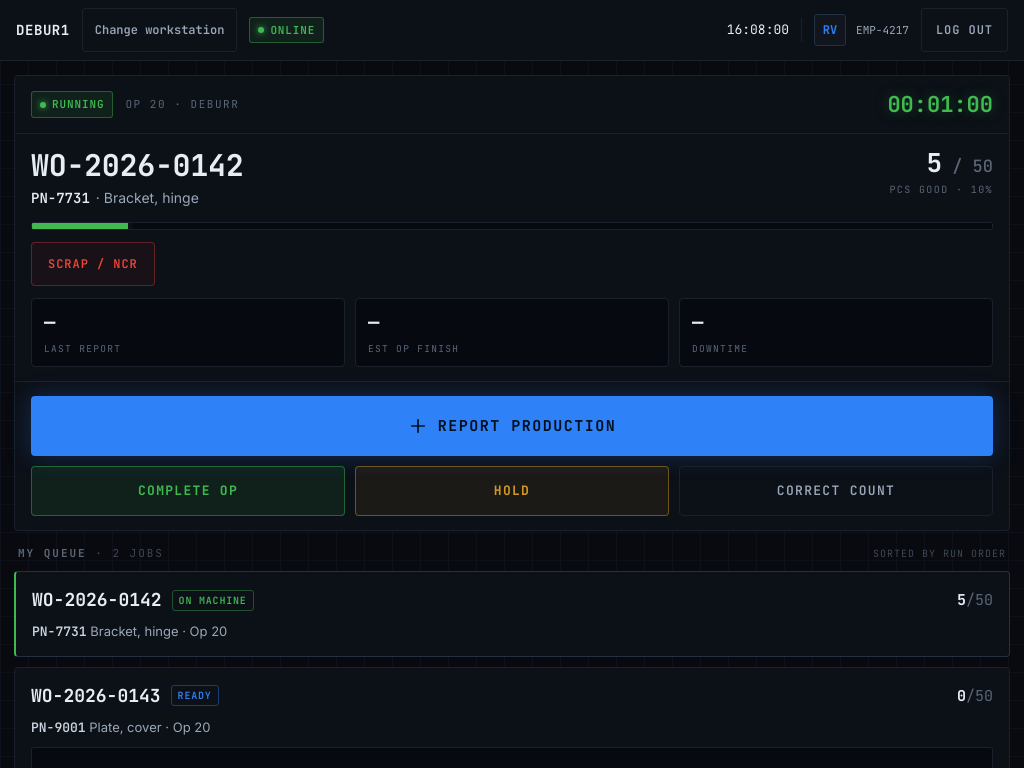
Test: OperatorKiosk — Foundry flows › complete modal — chained next-job start (decision 6) › surfaces a chained clock-in refusal VERBATIM and lands on the queue
What coordinates should you click on to do the following:
click the button "Complete op"
I would click on:
 (188, 491)
Its box is [31,466,345,516].
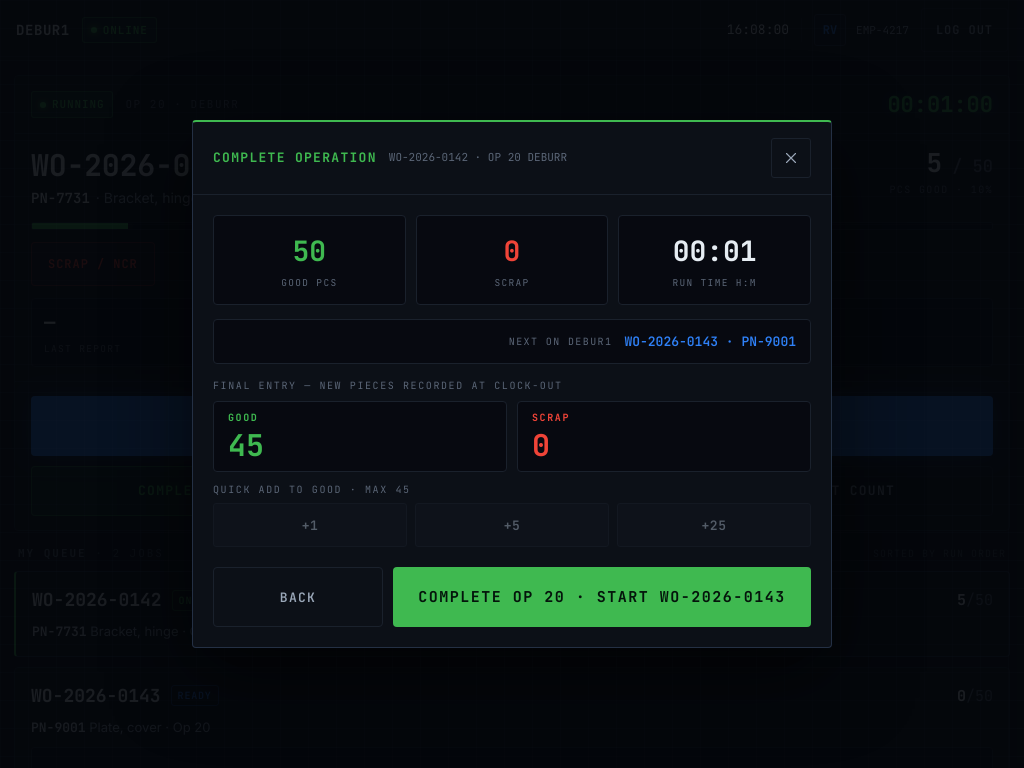
What coordinates should you click on to do the following:
click the button with test id "kiosk-qty-confirm"
I would click on:
 (602, 597)
Its box is [393,567,811,627].
(page scrolled)
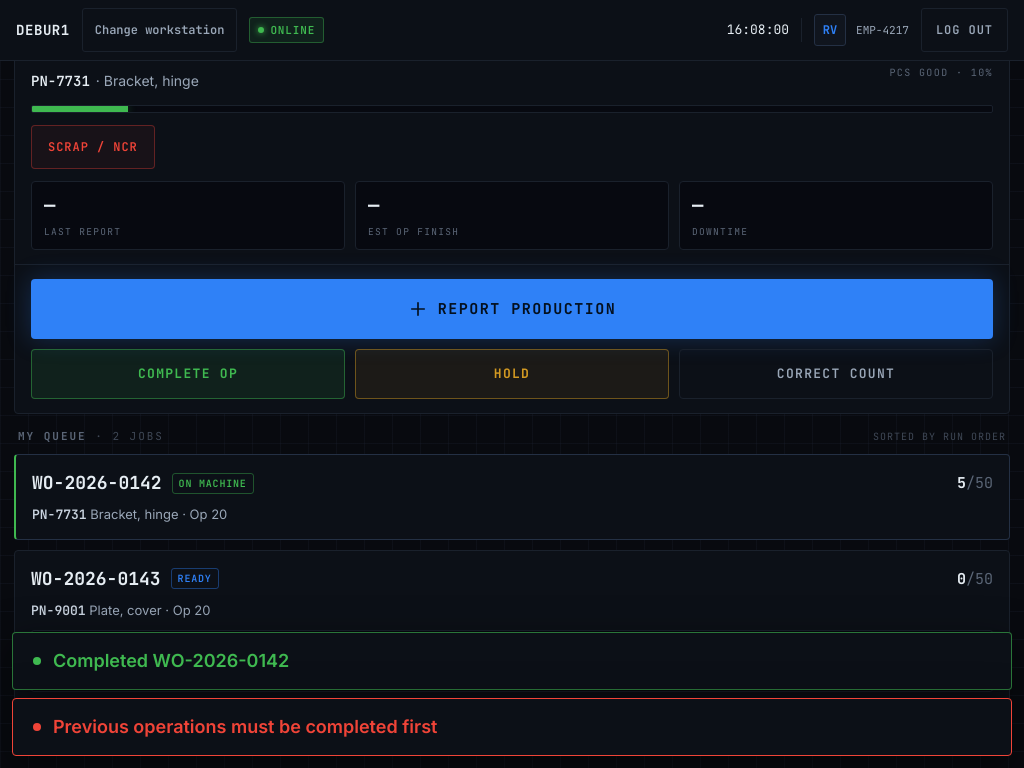
expect the text "Previous operations must be completed first" is shown: met, box [53,713,437,741]
expect the text "Completed WO-2026-0142" is shown: met, box [53,647,289,675]
expect the button with test id "kiosk-qty-confirm" is gone: met
